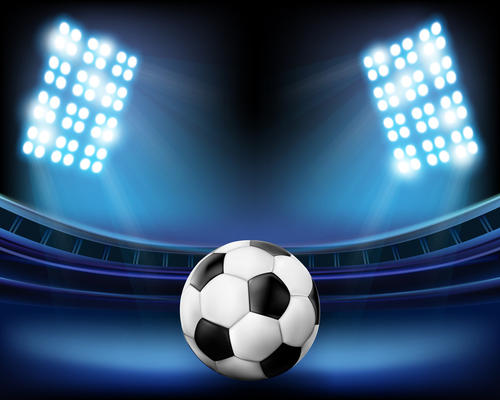football: (170, 238, 330, 380)
